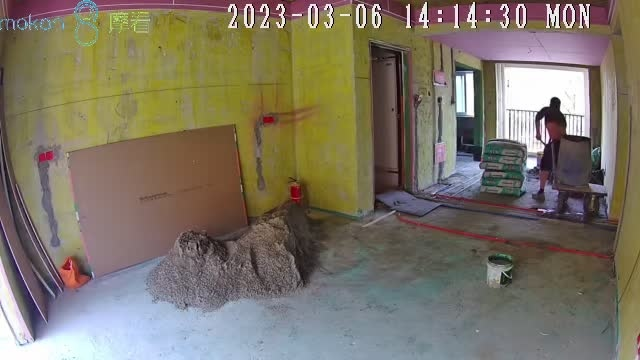people: (535, 97, 566, 200)
window: (501, 66, 590, 144)
